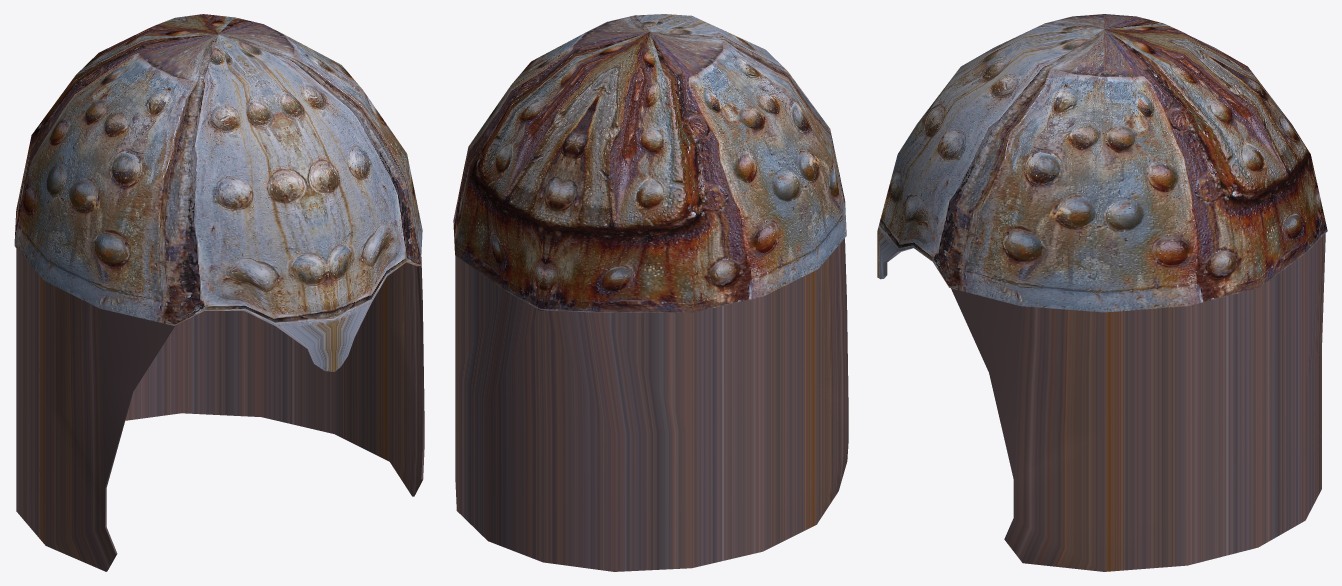
3 views of the same model, side by side, from view 1: azimuth 30°, elevation 25°; view 2: azimuth 150°, elevation 25°; view 3: azimuth 270°, elevation 25° (orthographic). The views are drawn at different scales.
Visible parts, largest first — view 1: Helmet, Helmet2; view 2: Helmet2, Helmet; view 3: Helmet, Helmet2.
Boxes of the visible parts, x1=… form: Helmet: x1=14, y1=14, x2=422, y2=371; Helmet2: x1=16, y1=248, x2=424, y2=571; Helmet2: x1=455, y1=238, x2=848, y2=571; Helmet: x1=453, y1=14, x2=846, y2=312; Helmet: x1=877, y1=14, x2=1327, y2=312; Helmet2: x1=951, y1=233, x2=1325, y2=571.
Size of the model in its own units: 201 by 259 by 230.
Materials: 2 (2 with a texture image).
